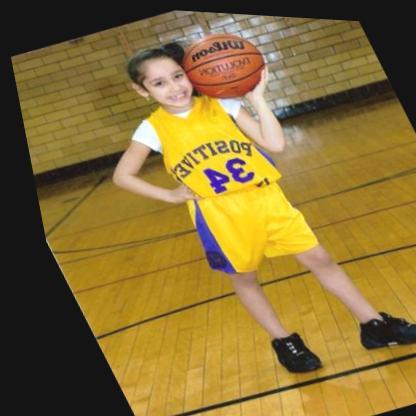basketball: (166, 16, 281, 109)
